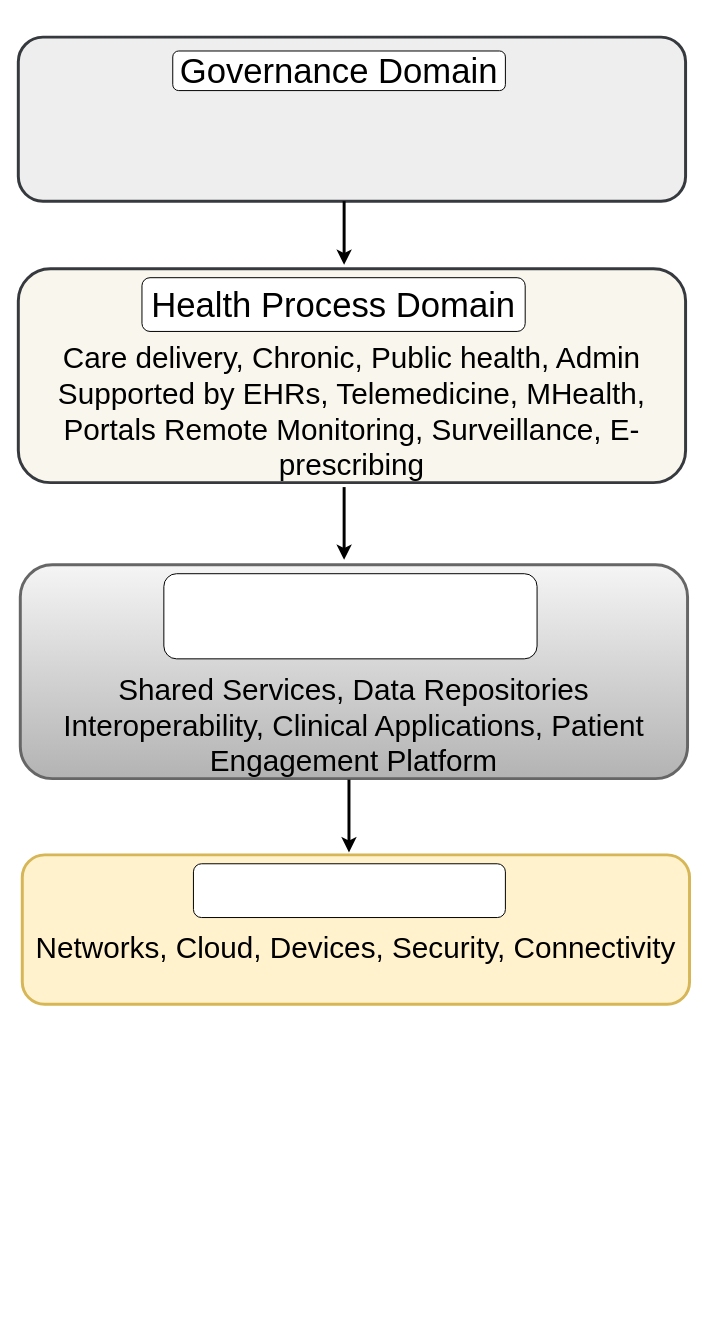
This 708x1318 diagram has some shape labels left out. The box of each missing label's shape, as (x1, y1, x2, y2) in pixels:
eHealth Infrastructure (Infostructure): (163, 573, 537, 659)
ICT Infrastructure: (192, 863, 505, 918)
Policies, Standards, Leadership, Regulation, Funding: (16, 35, 687, 202)
